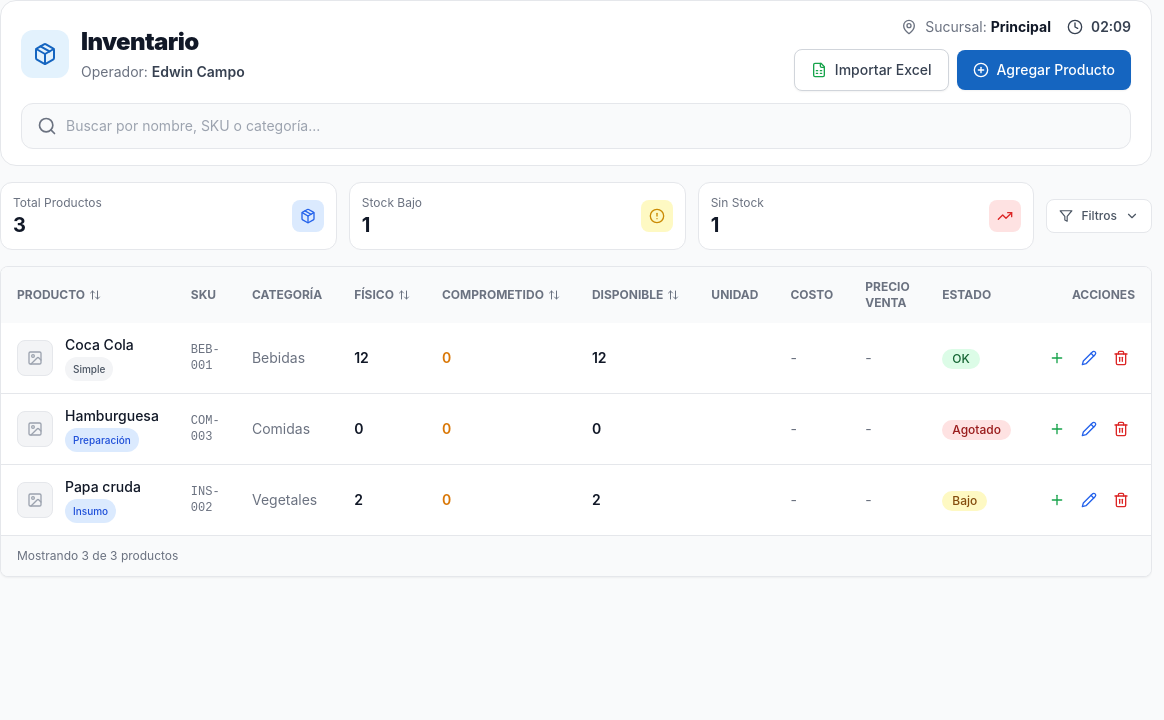
Scenario: Inventario: encabezado estilo POS con buscador › conserva filtros al ocultar el panel e indica los activos; limpiar no borra el buscador
Check: the text "Papa cruda" is shown, box [65,477,141,497]
Click the button "Filtros": (1099, 216) [1046,199,1152,233]
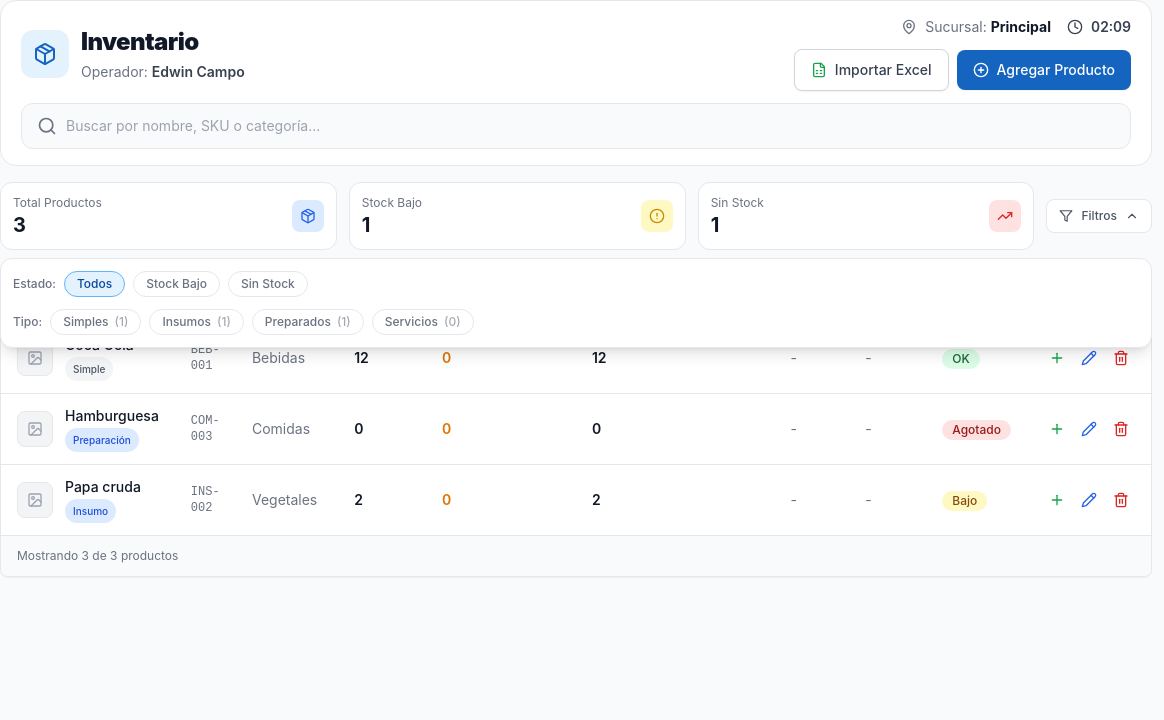
Click the button "Stock Bajo": (177, 284) [133,271,220,297]
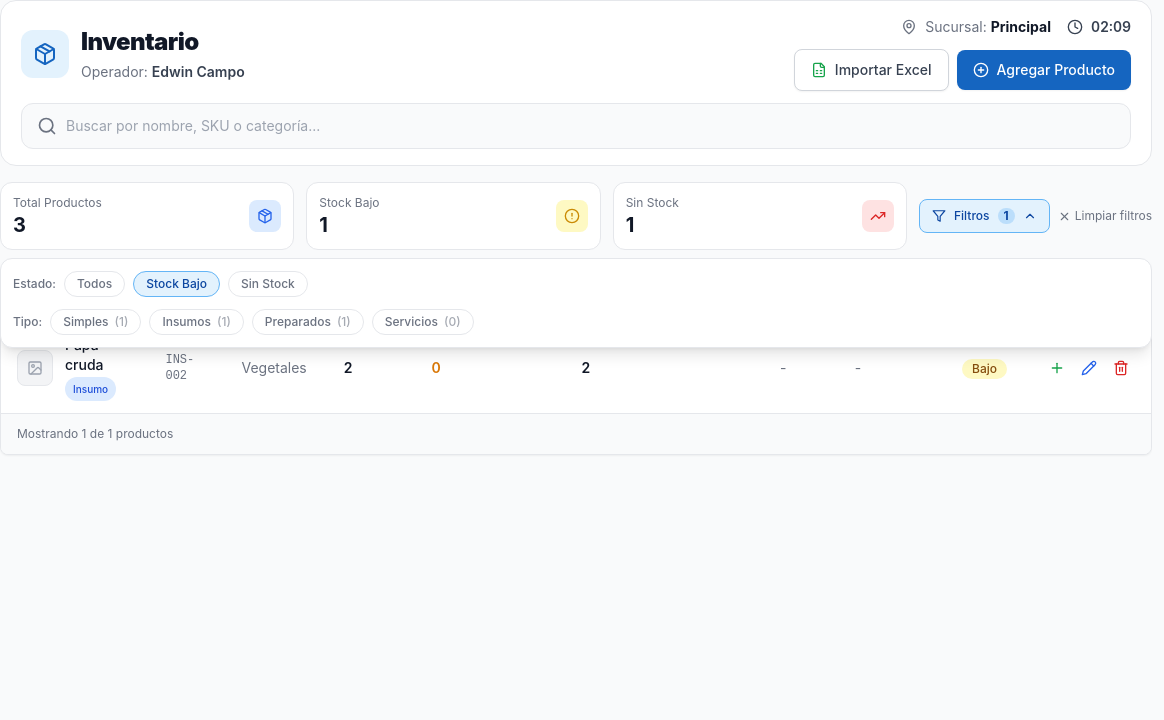
Click the button "Insumos(1)": (197, 322) [149,309,244,335]
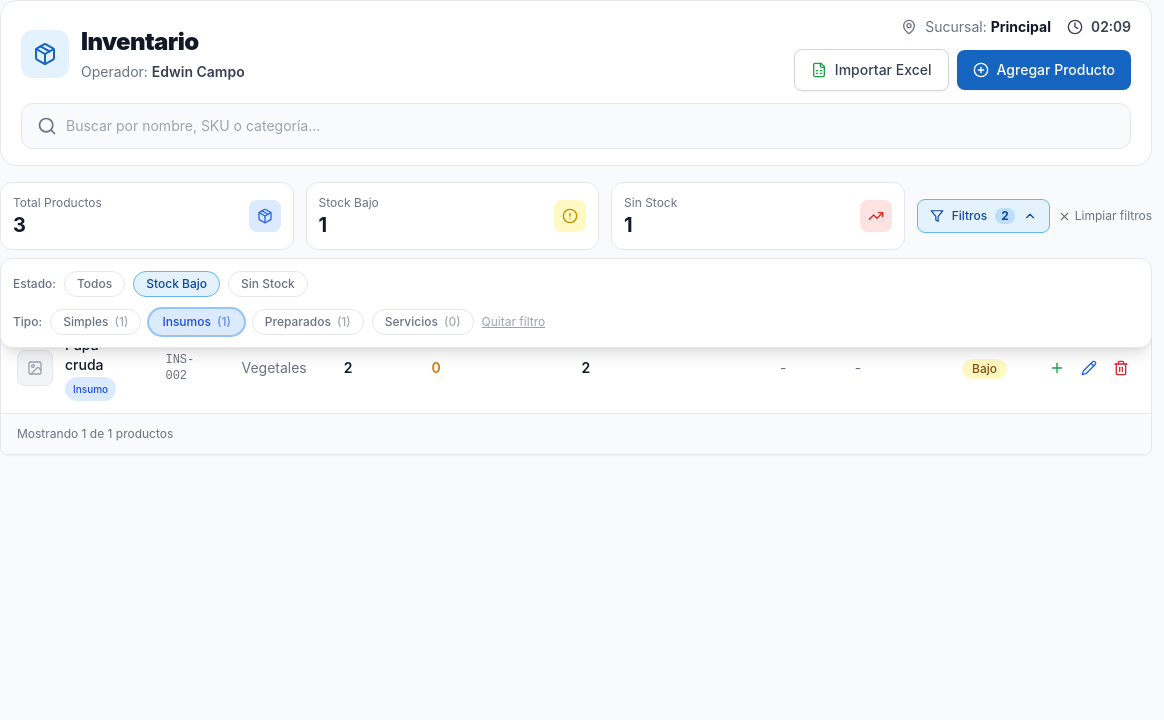
Check: the button "Filtros 2" is expanded
Click the button "Filtros 2": (983, 216) [917,199,1050,233]
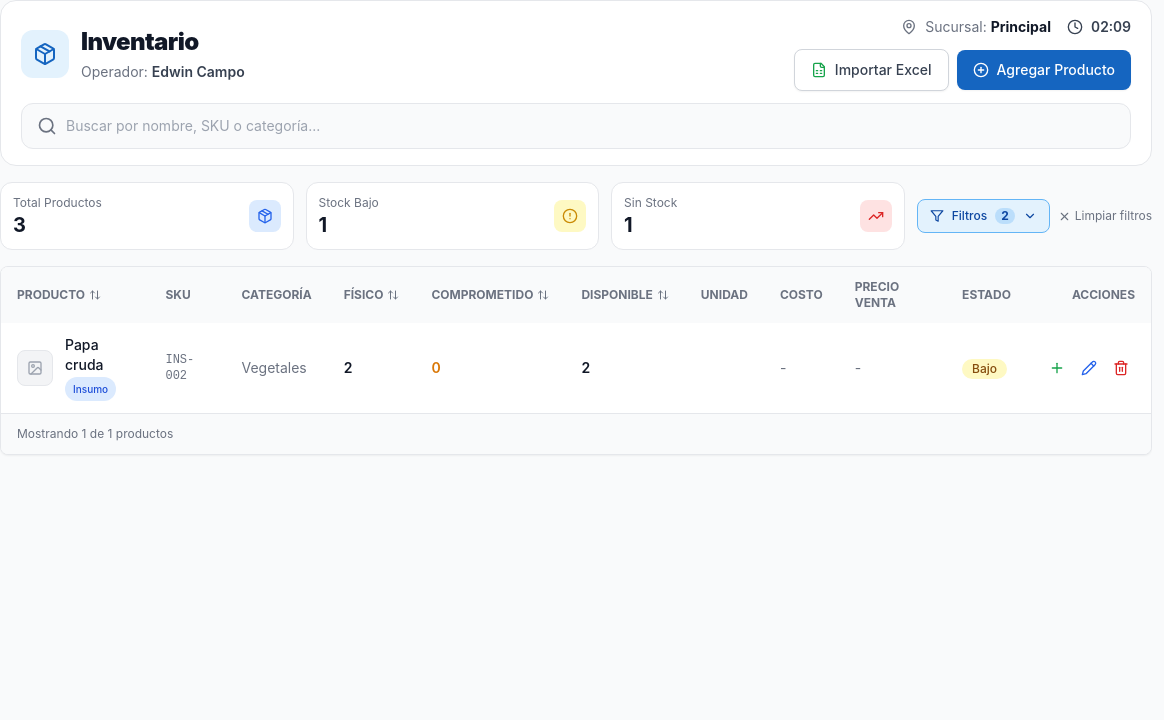
Check: the text "Papa cruda" is shown, box [65,336,104,373]
Check: the button "Filtros 2" is collapsed, box [917,199,1050,233]
In the search field named "Buscar en inventario": (576, 126) [21,103,1131,149], type "Coca"
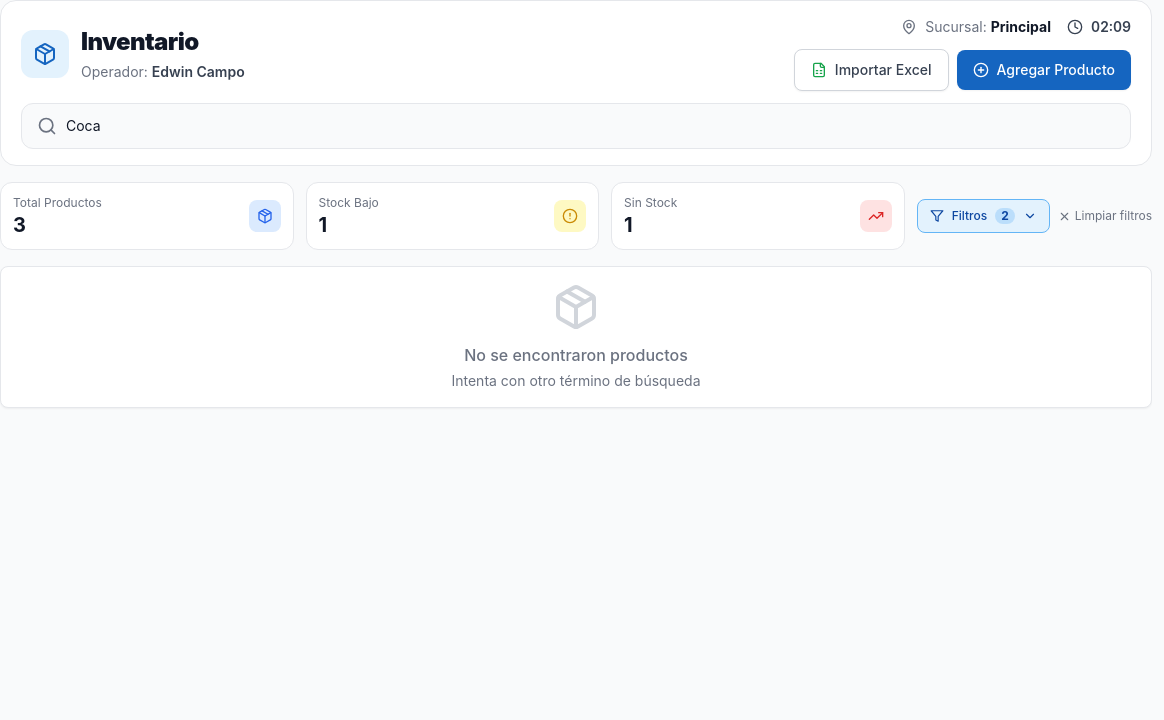
Check: the text "No se encontraron productos" is shown, box [464,343,688,367]
Click the button "Limpiar filtros": (1105, 216) [1058,208,1152,224]
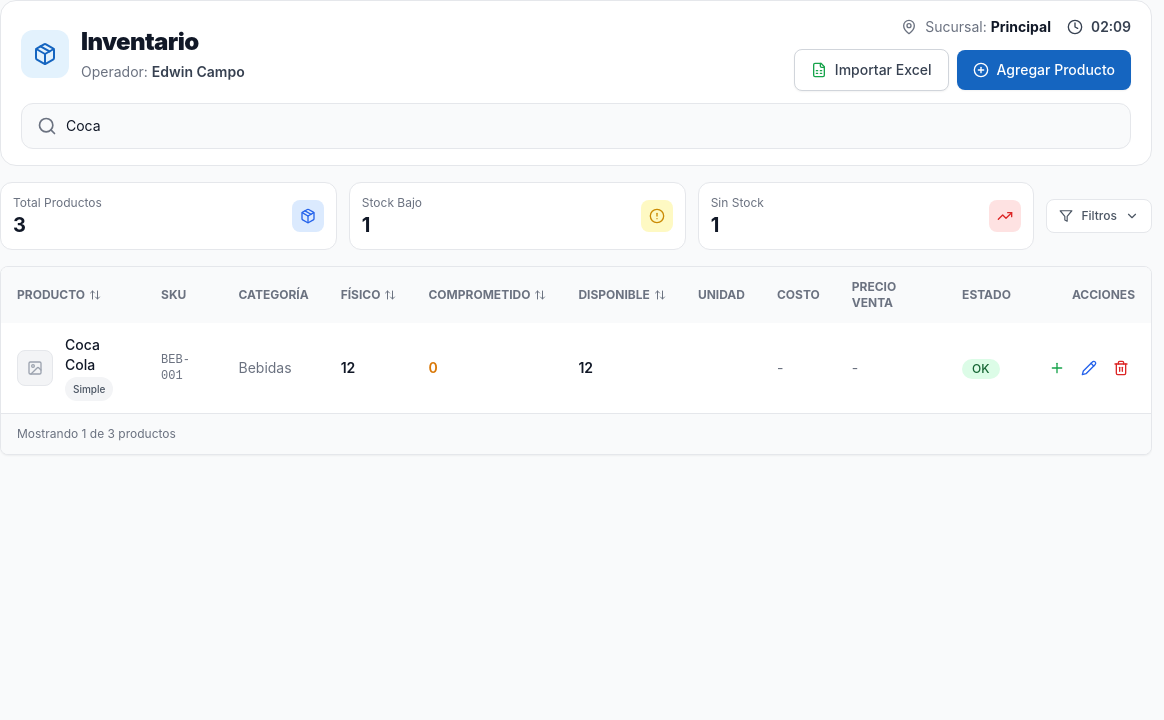
Check: the button "Filtros" is shown, box [1046,199,1152,233]
Check: the text "Coca Cola" is shown, box [65,336,100,373]
Check: the button "Limpiar filtros" is gone
